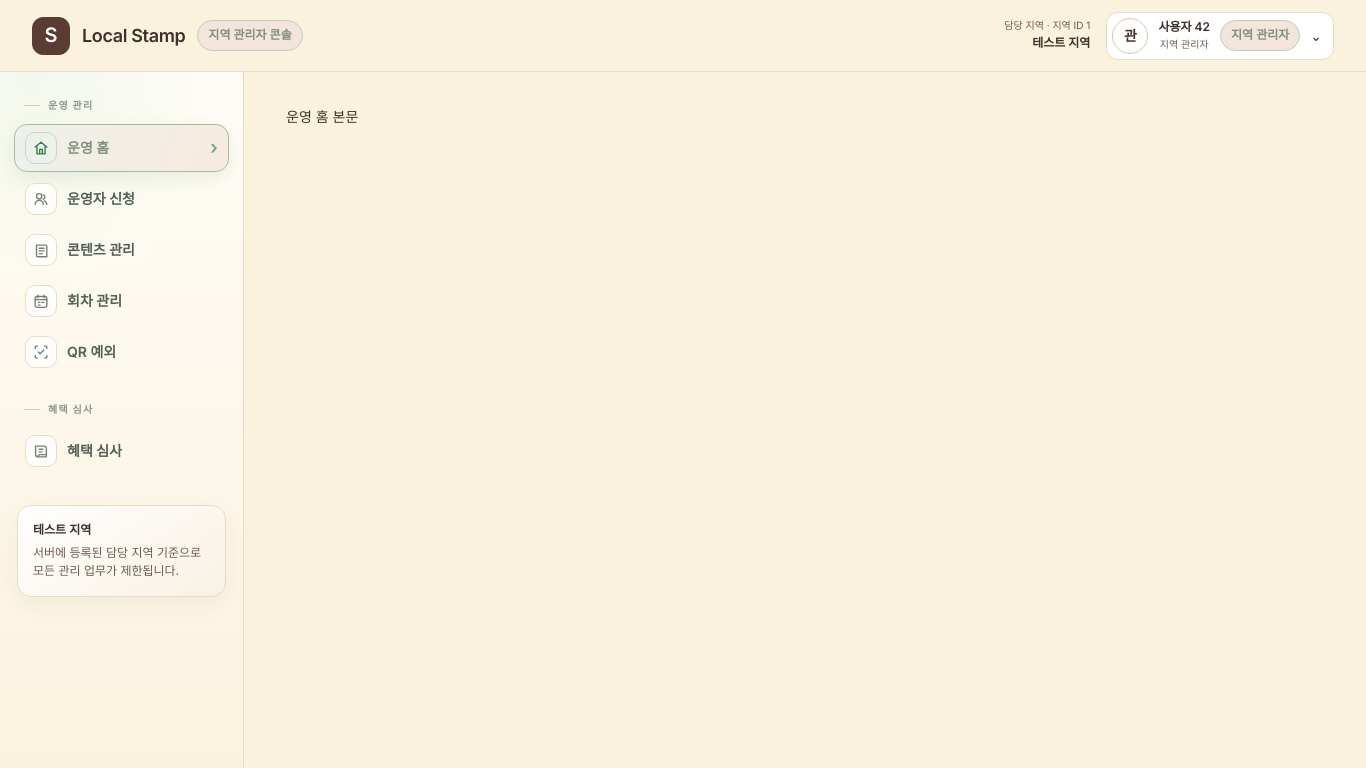
Test: AdminLayout account menu › shows the assigned region and all available feature shortcuts
Click the button "관 사용자 42 지역 관리자 지역 관리자 ⌄".
click(1220, 36)  # box [1106, 12, 1334, 60]
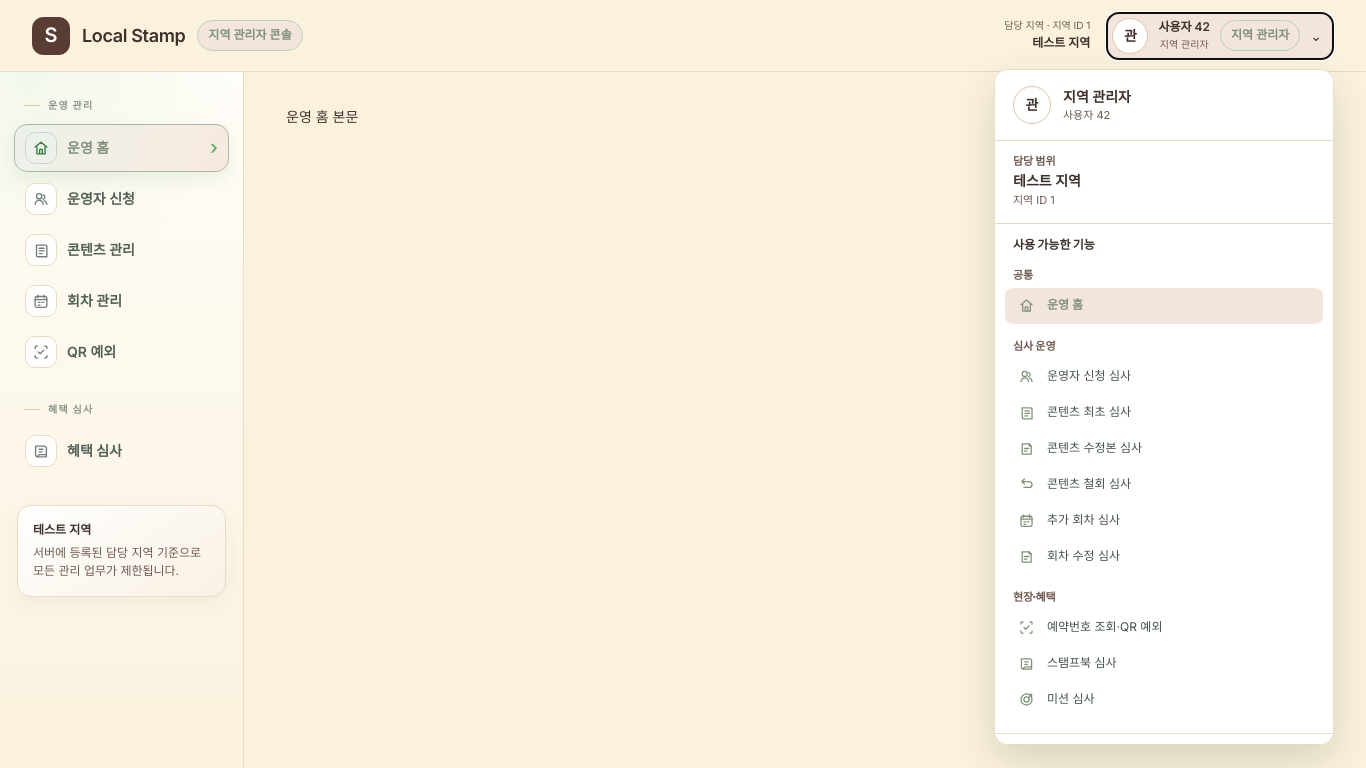
expect the element named "지역 관리자 계정 메뉴" is shown: met, box [994, 68, 1334, 744]
expect the text "테스트 지역" below "담당 범위" is shown: met, box [1013, 172, 1081, 189]
expect the text "지역 ID 1" is shown: met, box [1013, 193, 1055, 207]
